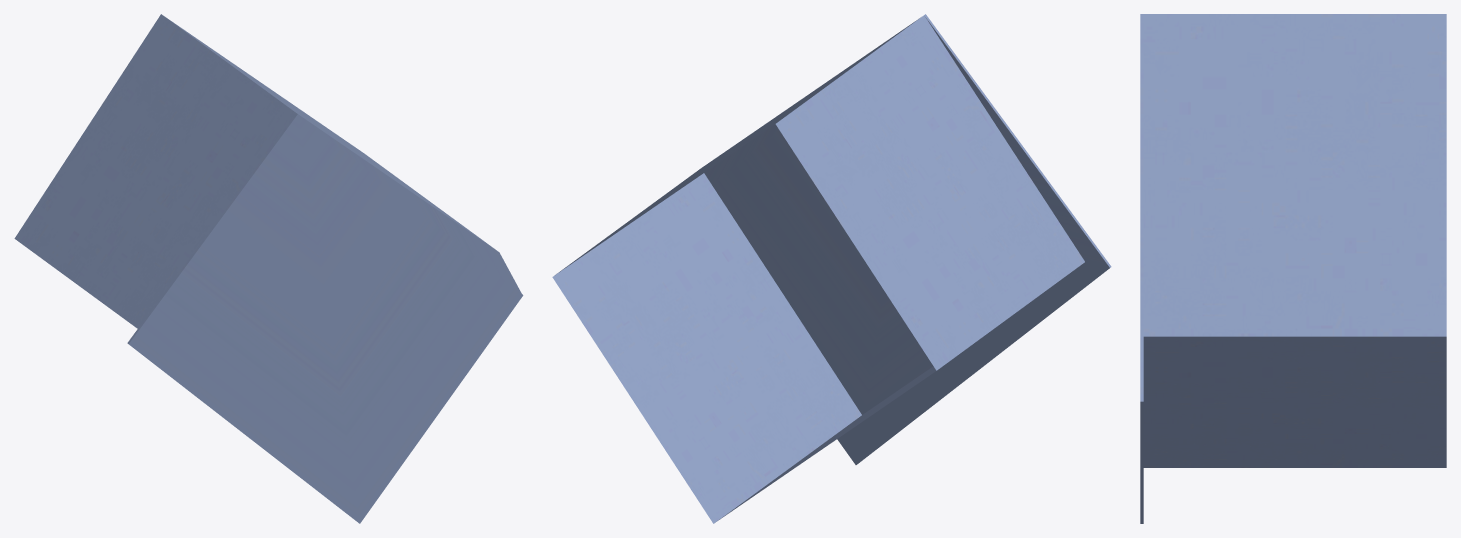
Rendered from estonia6a_2-origo.obj.
The picture shows the model from 3 angles, left to right: view 1: azimuth 30°, elevation 25°; view 2: azimuth 150°, elevation 25°; view 3: azimuth 270°, elevation 25°; orthographic projection. The views are drawn at different scales.
Parts seen in each view (by area): view 1: polySurface1; view 2: polySurface1; view 3: polySurface1.
Part boxes in pixels (x1,y1,x2,y2): polySurface1: (14, 14, 523, 523); polySurface1: (552, 14, 1111, 523); polySurface1: (1140, 14, 1446, 523).
Bounding box in the file's own units: 4.38 × 4.5 × 2.63.
Materials: 1 (1 with a texture image).
